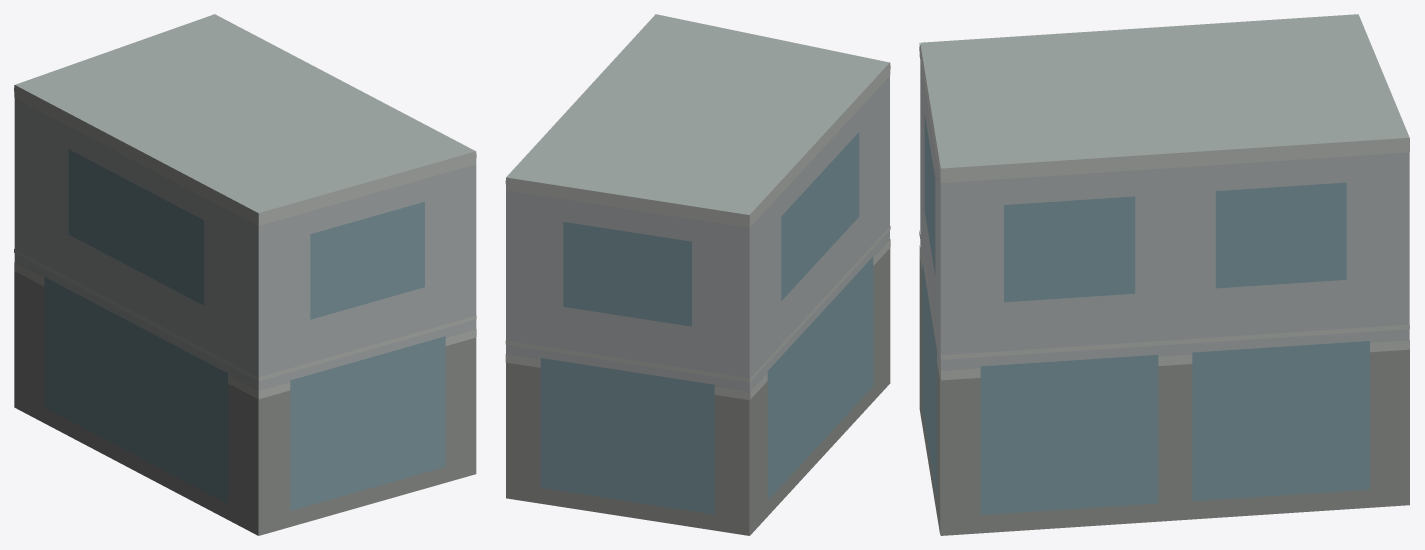
Rendered from survey-upis-32633969.glb.
3 views of the same model, side by side, from view 1: azimuth 30°, elevation 25°; view 2: azimuth 150°, elevation 25°; view 3: azimuth 270°, elevation 25° (orthographic). The views are drawn at different scales.
Parts seen in each view (by area): view 1: survey-upis-32633969.tmp; view 2: survey-upis-32633969.tmp; view 3: survey-upis-32633969.tmp.
Part boxes in pixels (x1,y1,x2,y2): survey-upis-32633969.tmp: (14,14,476,535); survey-upis-32633969.tmp: (505,14,890,535); survey-upis-32633969.tmp: (919,14,1409,535).
Size of the model in its own units: 5.53 by 6.1 by 7.4.
